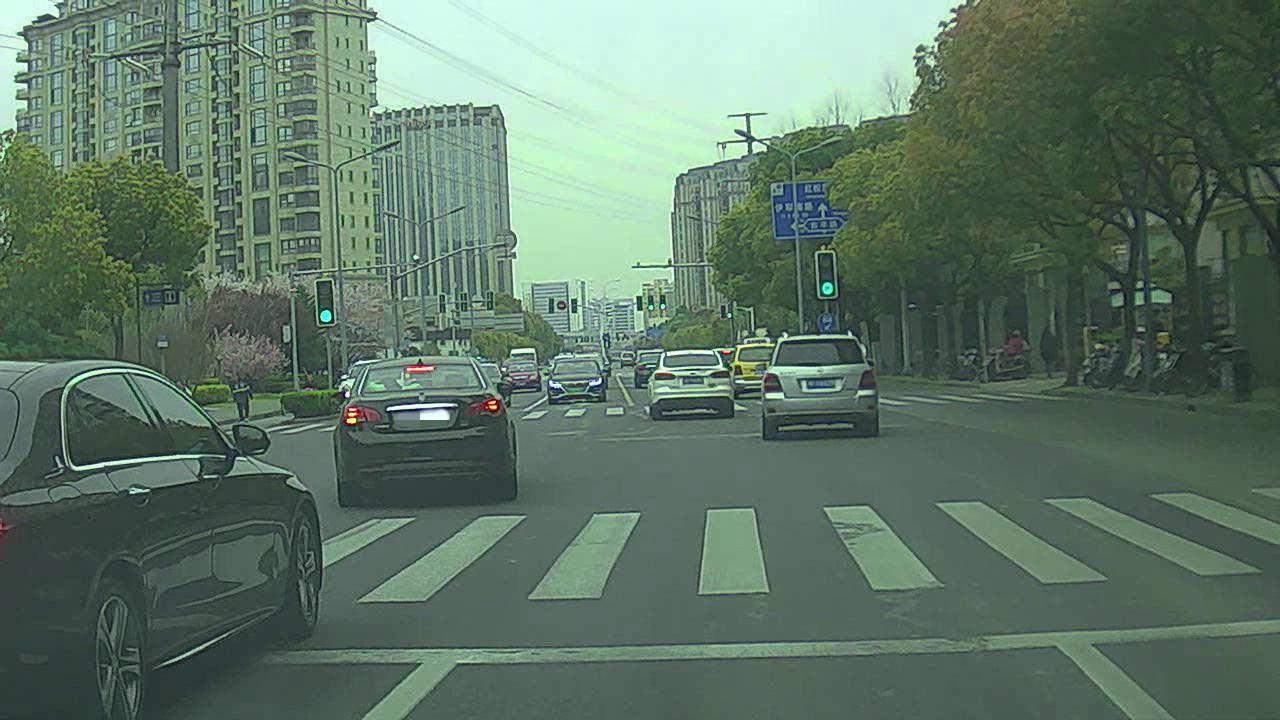traffic_light: (816, 250, 841, 298), (314, 280, 337, 330), (658, 294, 667, 310), (635, 294, 642, 313), (648, 295, 653, 313)
